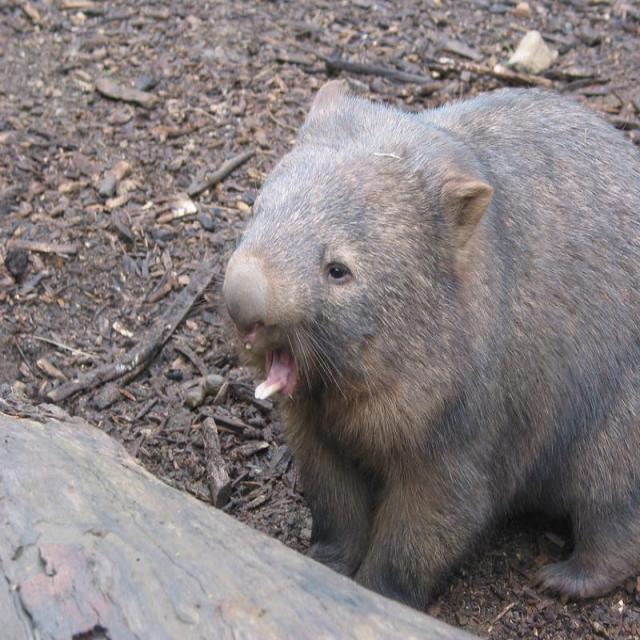Wombat: (218, 71, 640, 601)
